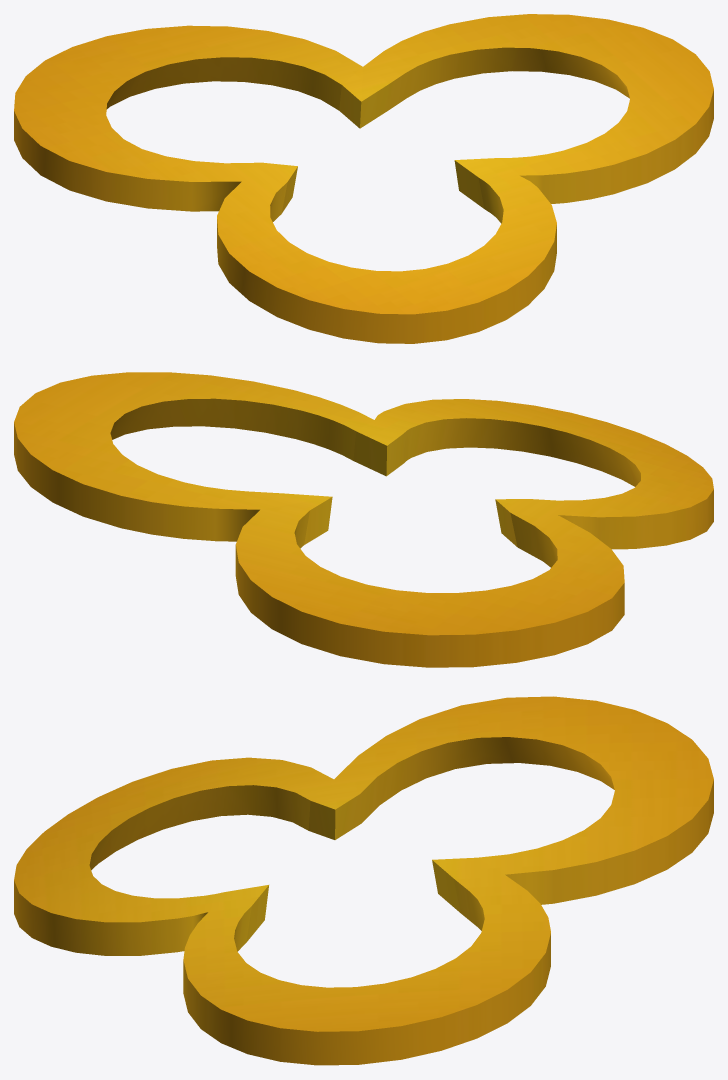
Rendered from pepper.fbx.
The picture shows the model from 3 angles, top to bottom: view 1: azimuth 30°, elevation 25°; view 2: azimuth 150°, elevation 25°; view 3: azimuth 270°, elevation 25°; orthographic projection. The views are drawn at different scales.
Visible parts, largest first — view 1: Slice pepper.001; view 2: Slice pepper.001; view 3: Slice pepper.001.
Part boxes in pixels (<box>): Slice pepper.001: <box>14,14,713,343</box>; Slice pepper.001: <box>14,372,713,667</box>; Slice pepper.001: <box>14,696,713,1065</box>.
Size of the model in its own units: 16.94 by 2.42 by 15.28.
1 material, 1 textured.
